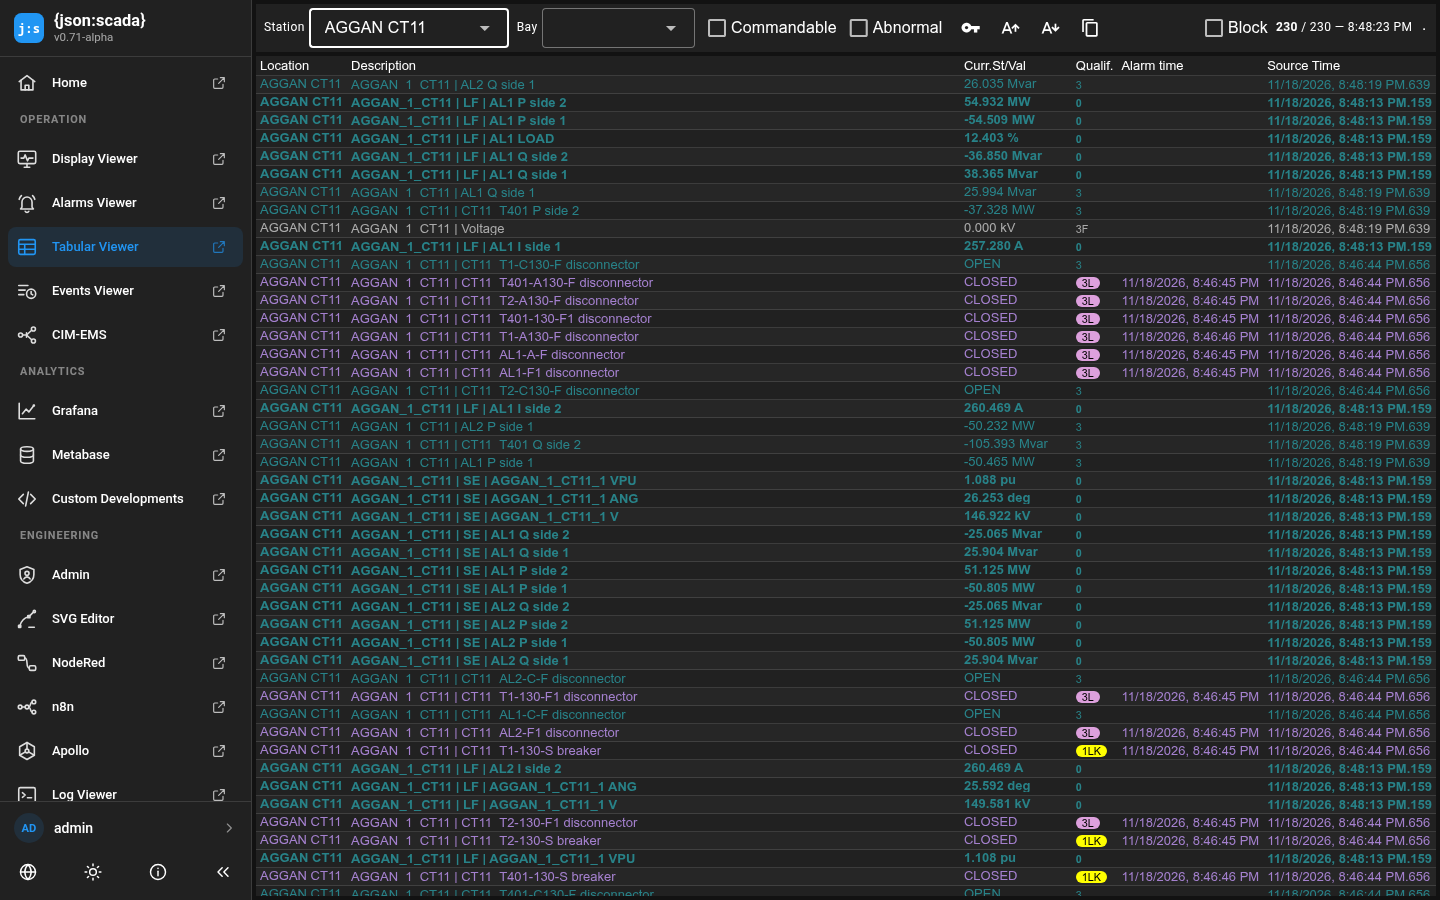

What the dashboard file says about the page in this screenshot:
{"tool":"powerbi","page":{"name":"Página 2","canvas":[1280,720],"ordinal":1},"visuals":[{"type":"tableEx","fields":{"Values":["public realtime_data.tag","public realtime_data.json_data.value","public realtime_data.json_data.valueString","public realtime_data.json_data.unit","public realtime_data.json_data.invalid","public realtime_data.json_data.type","public realtime_data.json_data.group2","public realtime_data.json_data.group1","public realtime_data.json_data.description","public realtime_data.json_data.alarmed"]},"box":[10.3,0,1249,696],"z":0}]}

Visuals, with their boxes on the page's 1280x720 design canvas (x1, y1, x2, y2). These are canvas units, not pixel positions in the 1440x900 screenshot, which may show the page scaled, cropped or inside an application window:
tableEx - public realtime_data.tag x public realtime_data.json_data.value: select_region(10, 0, 1259, 696)
